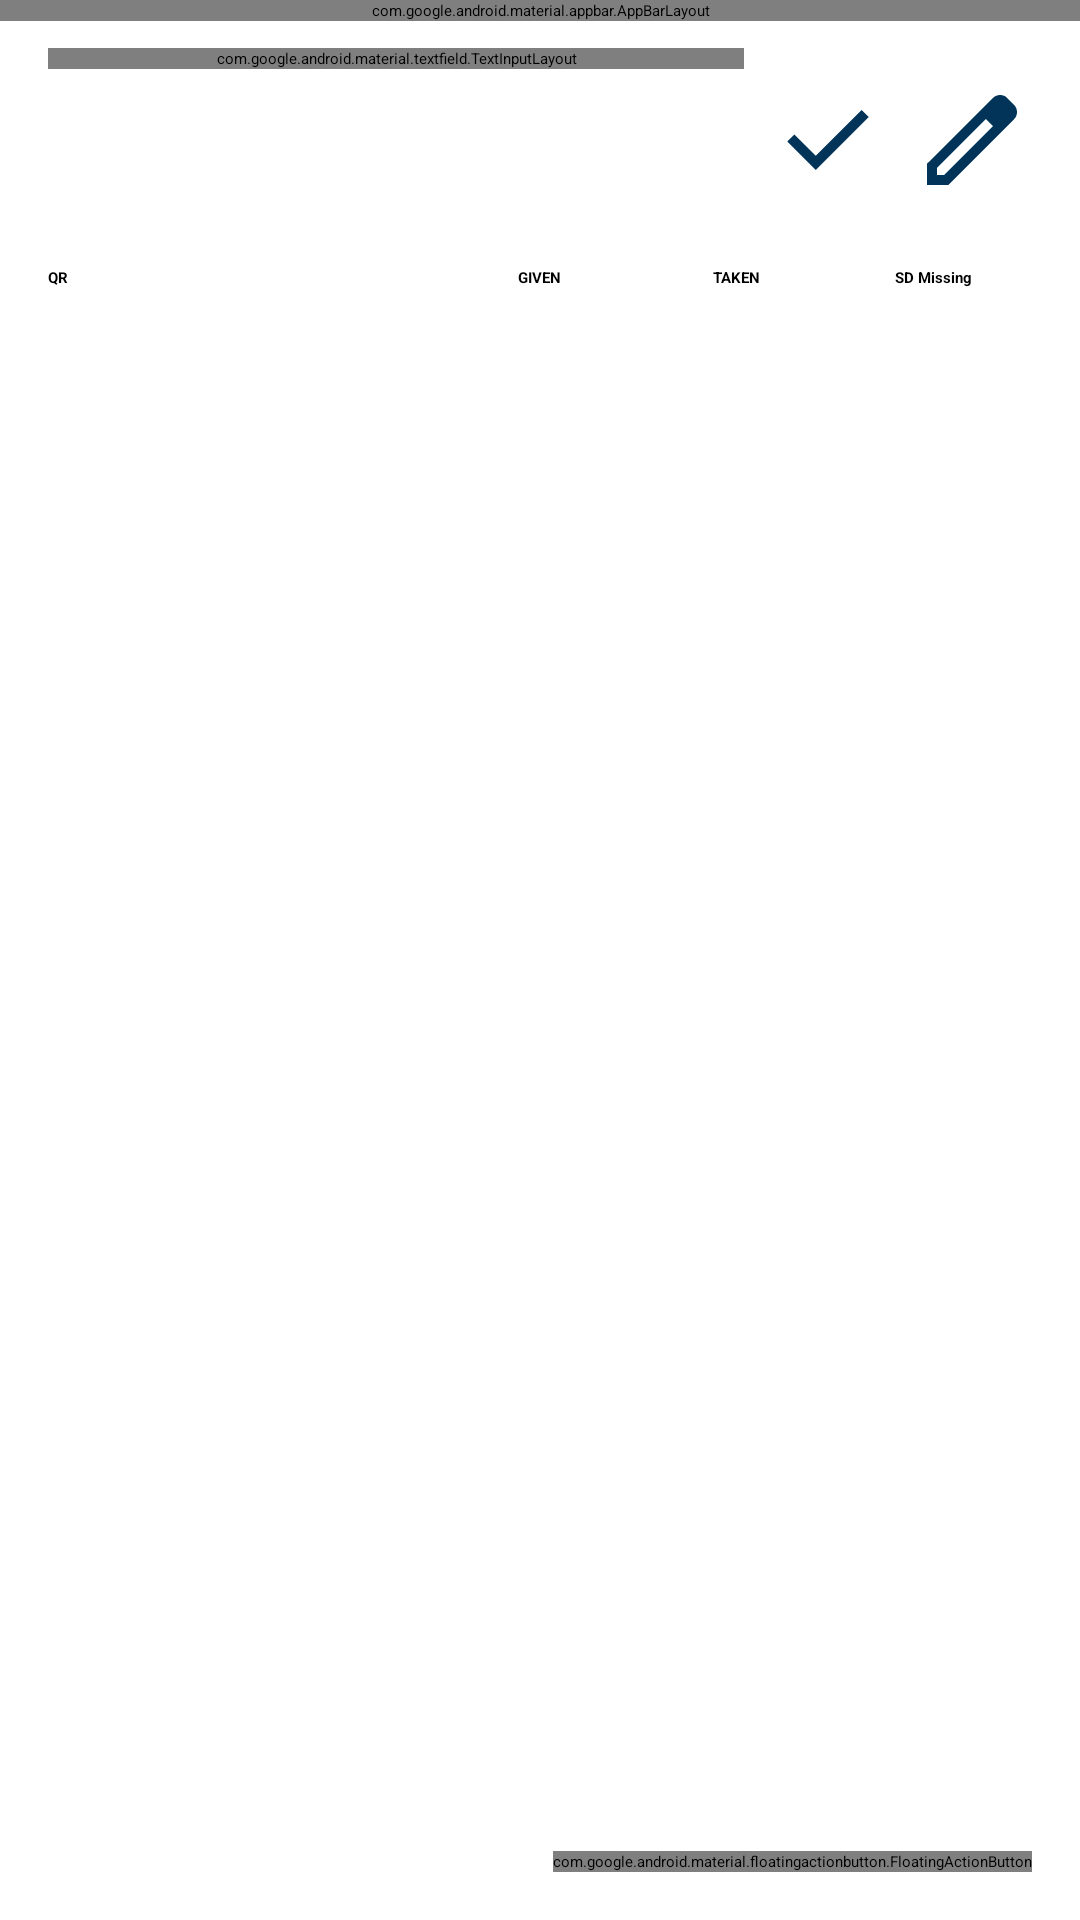

Point at icon controls on the screen. Image size 1080*1920, points as (x,y).
check: (828,140)
edit: (972,140)
